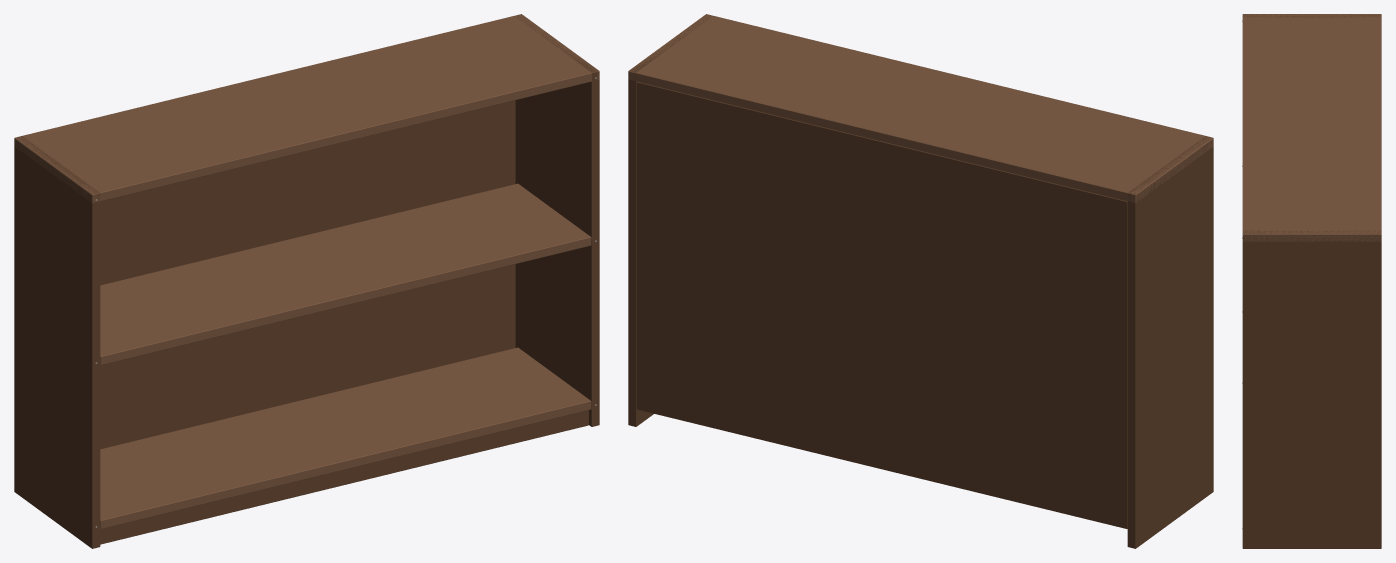
Rendered from bedroom-low-bookcase-035167723a22.glb.
The picture shows the model from 3 angles, left to right: view 1: azimuth 30°, elevation 25°; view 2: azimuth 150°, elevation 25°; view 3: azimuth 270°, elevation 25°; orthographic projection. The views are drawn at different scales.
Visible parts, largest first — view 1: wood-walnut-dark, wood-walnut; view 2: wood-walnut-dark, wood-walnut; view 3: wood-walnut-dark, wood-walnut.
Part boxes in pixels (x1,y1,x2,y2): wood-walnut-dark: (14,14,599,548); wood-walnut: (14,14,599,528); wood-walnut-dark: (628,14,1213,548); wood-walnut: (628,14,1213,203); wood-walnut-dark: (1242,14,1381,548); wood-walnut: (1242,14,1381,241).
Bounding box in the file's own units: 1.2 × 0.8 × 0.3206.
